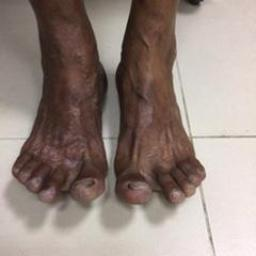Front View -Both Feet-: (8, 11, 216, 226)
